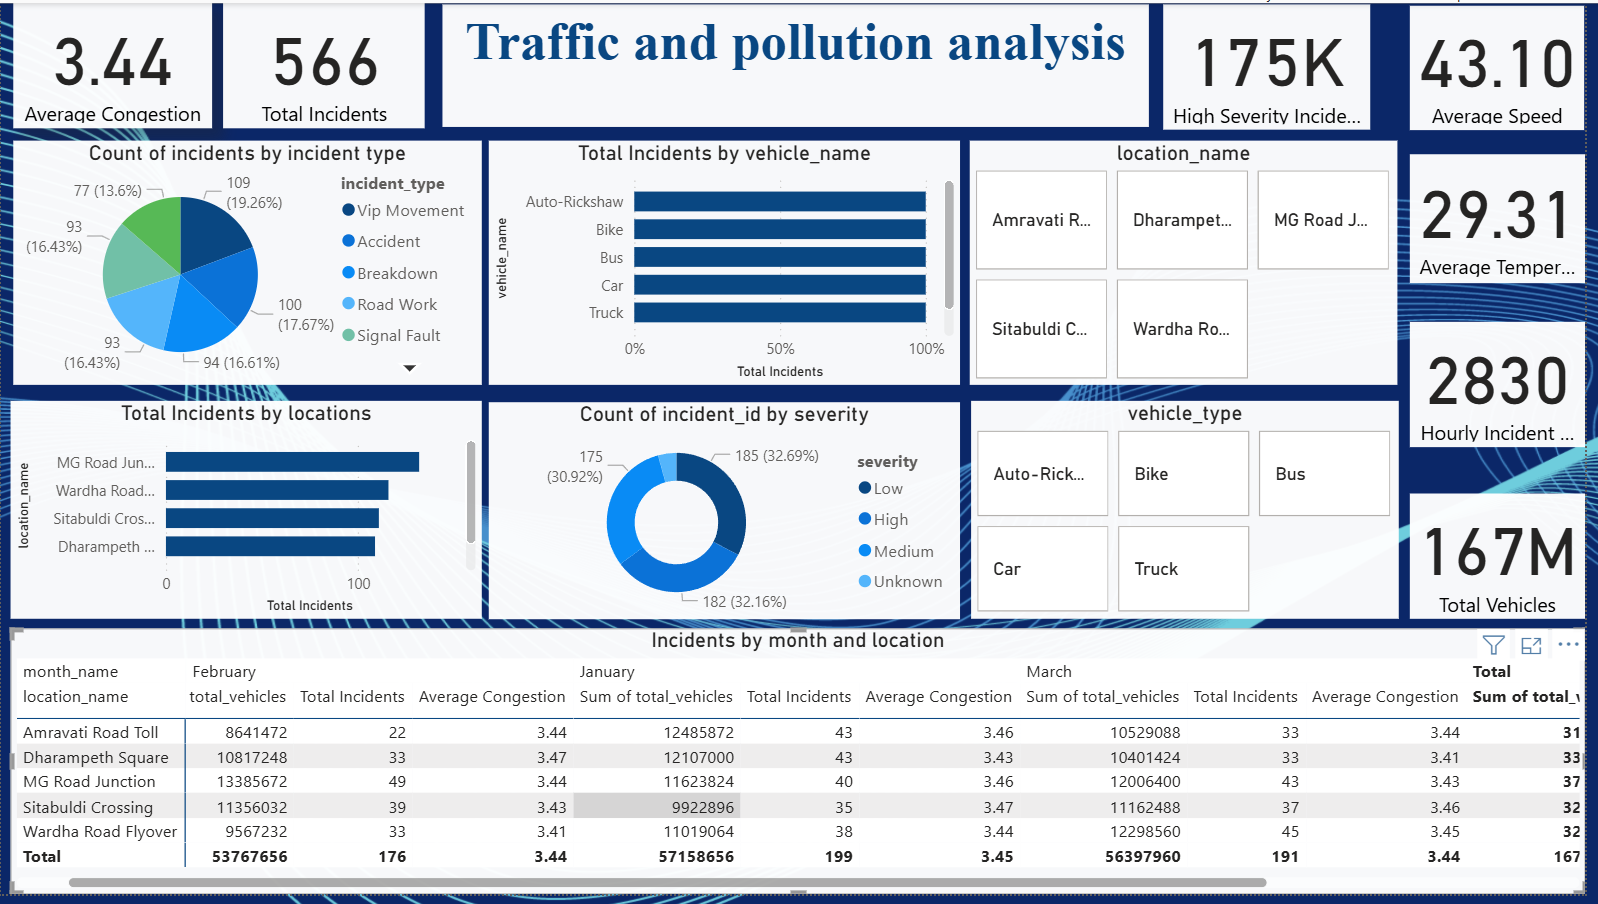

The page's visual inventory and layout, read from the dashboard file:
{"tool":"powerbi","page":{"name":"Page 1","canvas":[1280,720],"ordinal":0},"visuals":[{"type":"card","fields":{"Values":["agg_daily_summary.Average Congestion"]},"box":[9.1,10.3,168.9,101.6],"z":0},{"type":"card","fields":{"Values":["agg_daily_summary.Average Speed"]},"box":[964.2,10.3,156.3,101.6],"z":1000},{"type":"card","fields":{"Values":["agg_daily_summary.Hourly Incident Count"]},"box":[571.7,10.3,178,101.6],"z":2000},{"type":"card","fields":{"Values":["agg_daily_summary.Total Incidents"]},"box":[197.4,10.3,163.2,101.6],"z":3000},{"type":"card","fields":{"Values":["agg_daily_summary.Total Vehicles"]},"box":[1132,10.3,148.3,101.6],"z":4000},{"type":"card","fields":{"Values":["agg_daily_summary.High Severity Incidents"]},"box":[381.1,10.3,166.6,101.6],"z":5000},{"type":"card","fields":{"Values":["agg_daily_summary.Average Temperature"]},"box":[770.2,10.3,172.3,101.6],"z":6000},{"type":"clusteredColumnChart","fields":{"Category":["agg_hourly_summary.hour_bucket"],"Y":["agg_daily_summary.Hourly Incident Count"]},"box":[0,131.7,381.5,200.3],"z":7000},{"type":"clusteredBarChart","fields":{"Category":["dim_location.location_name"],"Y":["agg_daily_summary.Total Incidents"]},"box":[1.4,344.4,380.1,178.4],"z":8000},{"type":"donutChart","fields":{"Category":["fact_incidents.severity"],"Y":["CountNonNull(fact_incidents.incident_id)"]},"box":[399.4,344.6,382.3,178],"z":9000},{"type":"pivotTable","fields":{"Rows":["dim_location.location_name"],"Columns":["dim_date.month_name"],"Values":["Sum(agg_daily_summary.total_vehicles)","agg_daily_summary.Total Incidents","agg_daily_summary.Average Congestion"]},"box":[1.1,536.3,1279.2,183.7],"z":10000},{"type":"advancedSlicerVisual","fields":{"Values":["dim_location.location_name"]},"box":[799.9,131.2,462.1,200.8],"z":11000},{"type":"advancedSlicerVisual","fields":{"Values":["dim_vehicle_type.Column1"]},"box":[799.9,344.6,462.1,178],"z":12000},{"type":"hundredPercentStackedBarChart","fields":{"Category":["dim_vehicle_type.Column1"],"Y":["agg_daily_summary.Total Incidents"]},"box":[399.4,131.2,370.9,200.8],"z":13000}]}

Visuals, with their boxes in screenshot pixels (x1, y1, x2, y2), scaled from the page's 1280x720 canvas onto the 1598x904 screenshot:
card - agg_daily_summary.Average Congestion: left=11, top=13, right=222, bottom=140
card - agg_daily_summary.Average Speed: left=1204, top=13, right=1399, bottom=140
card - agg_daily_summary.Hourly Incident Count: left=714, top=13, right=936, bottom=140
card - agg_daily_summary.Total Incidents: left=246, top=13, right=450, bottom=140
card - agg_daily_summary.Total Vehicles: left=1413, top=13, right=1597, bottom=140
card - agg_daily_summary.High Severity Incidents: left=476, top=13, right=684, bottom=140
card - agg_daily_summary.Average Temperature: left=962, top=13, right=1177, bottom=140
clusteredColumnChart - agg_hourly_summary.hour_bucket x agg_daily_summary.Hourly Incident Count: left=0, top=165, right=476, bottom=417
clusteredBarChart - dim_location.location_name x agg_daily_summary.Total Incidents: left=2, top=432, right=476, bottom=656
donutChart - fact_incidents.severity x CountNonNull(fact_incidents.incident_id): left=499, top=433, right=976, bottom=656
pivotTable - dim_location.location_name x dim_date.month_name: left=1, top=673, right=1597, bottom=903
advancedSlicerVisual - dim_location.location_name: left=999, top=165, right=1576, bottom=417
advancedSlicerVisual - dim_vehicle_type.Column1: left=999, top=433, right=1576, bottom=656
hundredPercentStackedBarChart - dim_vehicle_type.Column1 x agg_daily_summary.Total Incidents: left=499, top=165, right=962, bottom=417
